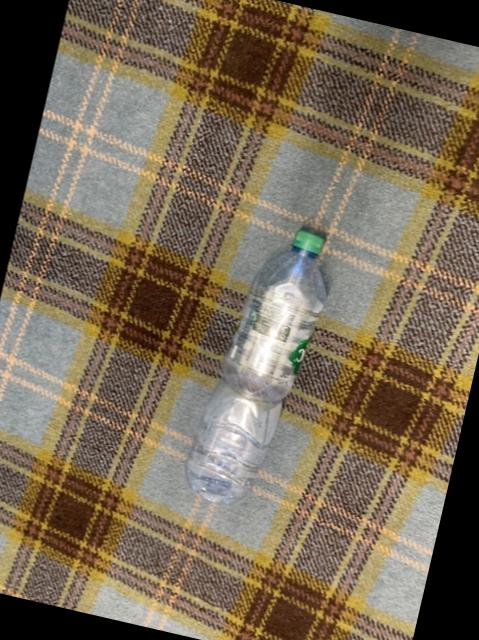plastic: (183, 230, 323, 504)
